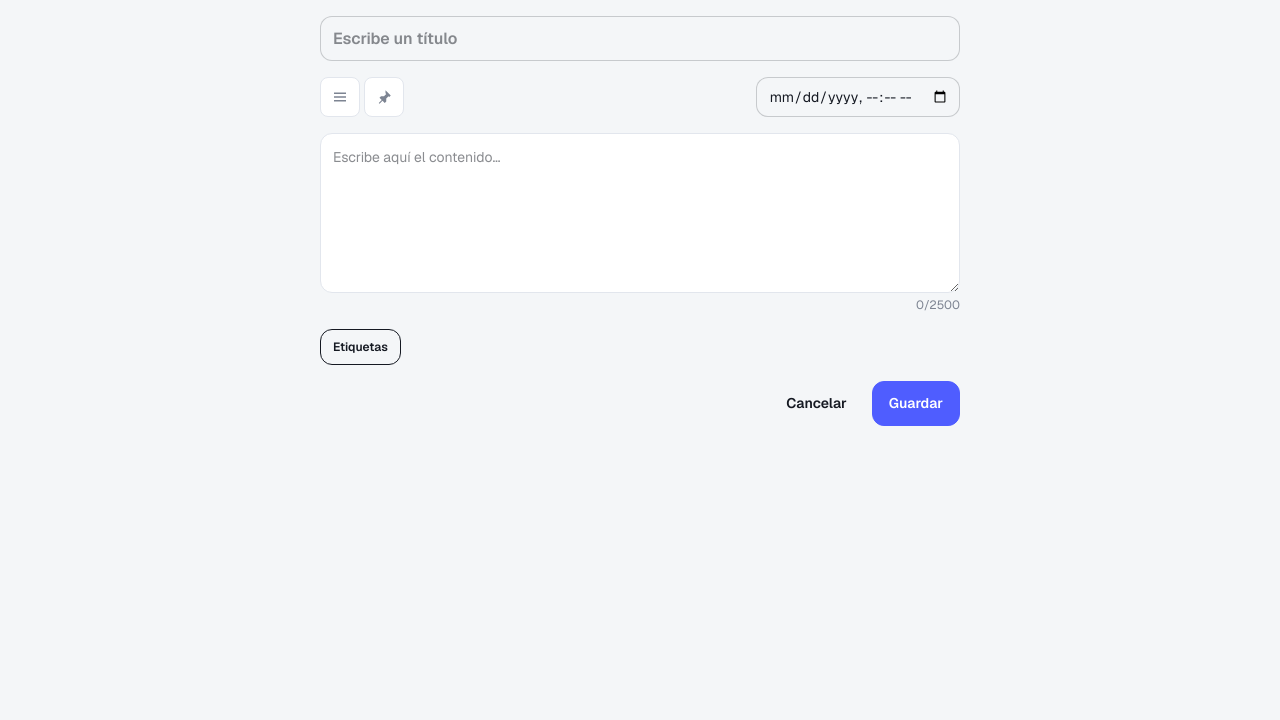
Test: NoteEditor › informa el error de etiqueta duplicada (RF-33)
Click the button "Etiquetas".
click(360, 347)  # box [320,329,401,365]
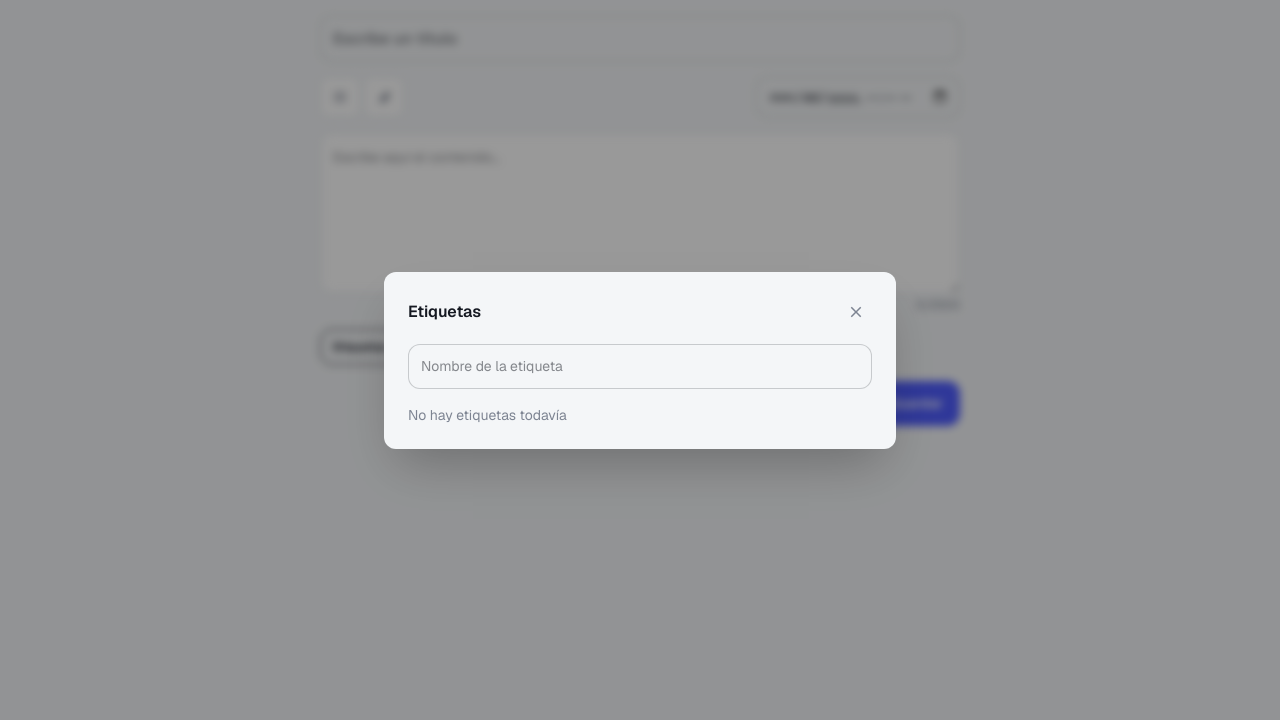
Type "casa" into the field named "Nueva etiqueta".
click(640, 366); type("casa")  # box [408,344,872,388]
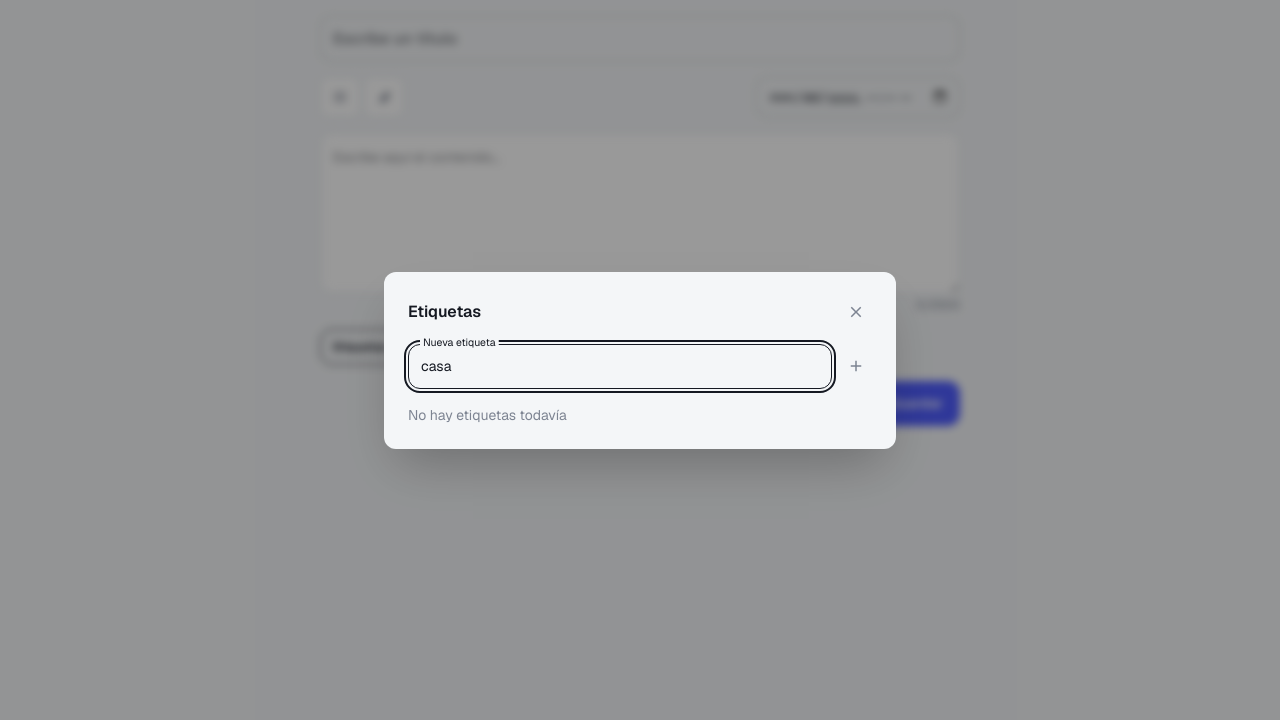
Click the button named "Agregar etiqueta".
click(856, 366)  # box [840,350,872,382]
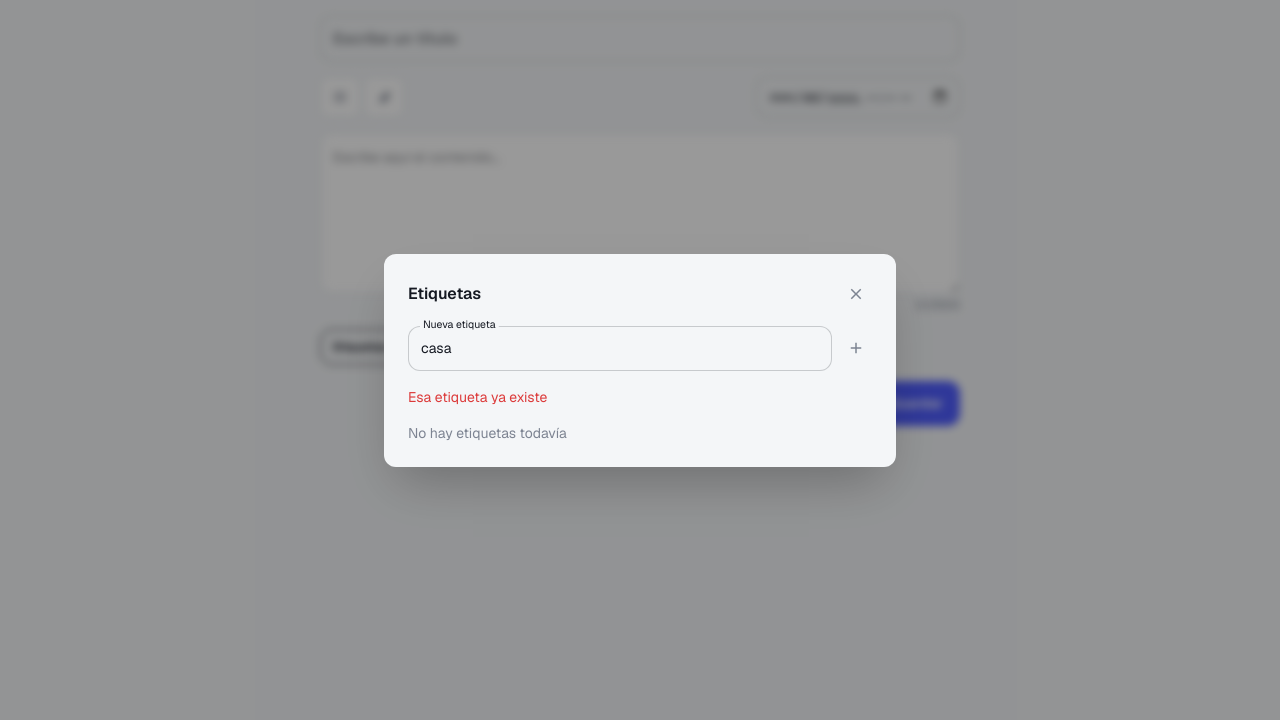
expect the text "Esa etiqueta ya existe" is shown: met, box [408,388,547,406]
